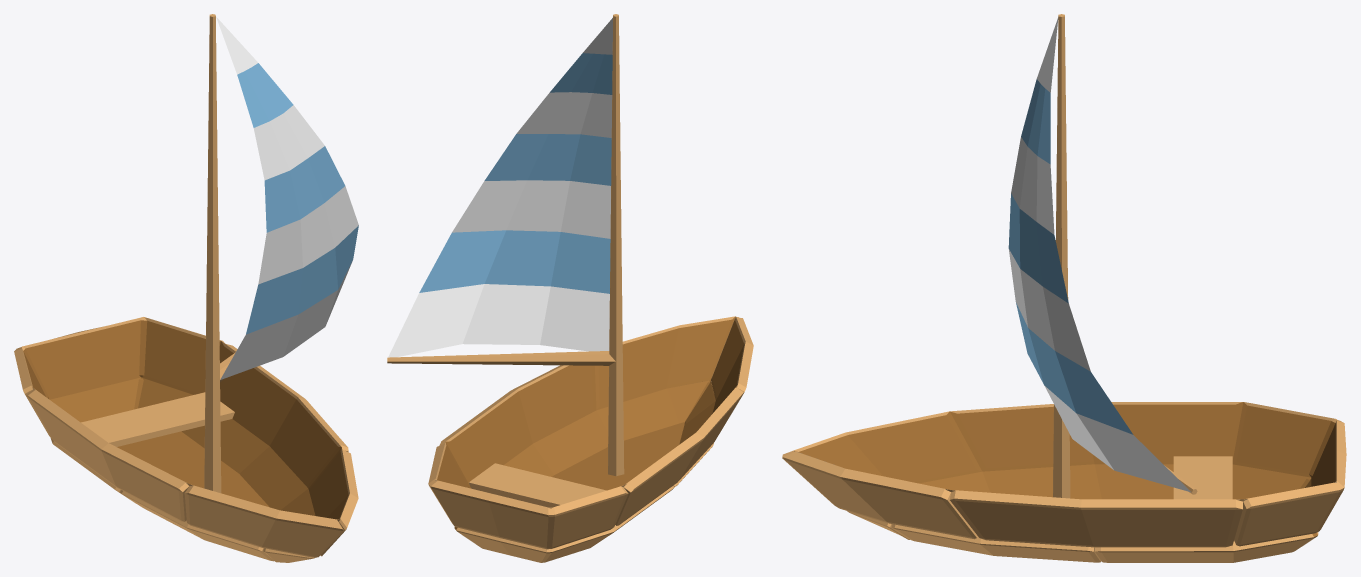
Rendered from bg_small_boat.glb.
3 views of the same model, side by side, from view 1: azimuth 30°, elevation 25°; view 2: azimuth 150°, elevation 25°; view 3: azimuth 270°, elevation 25° (orthographic). The views are drawn at different scales.
Visible parts, largest first — view 1: Plane.001, Plane, Vert; view 2: Plane.001, Plane, Vert; view 3: Plane.001, Plane, Vert.
Boxes of the visible parts, box(x1,y1,x2,y2) form: Plane.001: box(14, 317, 358, 562); Plane: box(216, 17, 358, 379); Vert: box(204, 14, 235, 493); Plane.001: box(428, 316, 753, 562); Plane: box(388, 18, 612, 357); Vert: box(387, 14, 624, 476); Plane.001: box(782, 402, 1346, 562); Plane: box(1008, 17, 1191, 492); Vert: box(1053, 14, 1197, 498).
Size of the model in its own units: 3.91 by 6.49 by 6.38.
